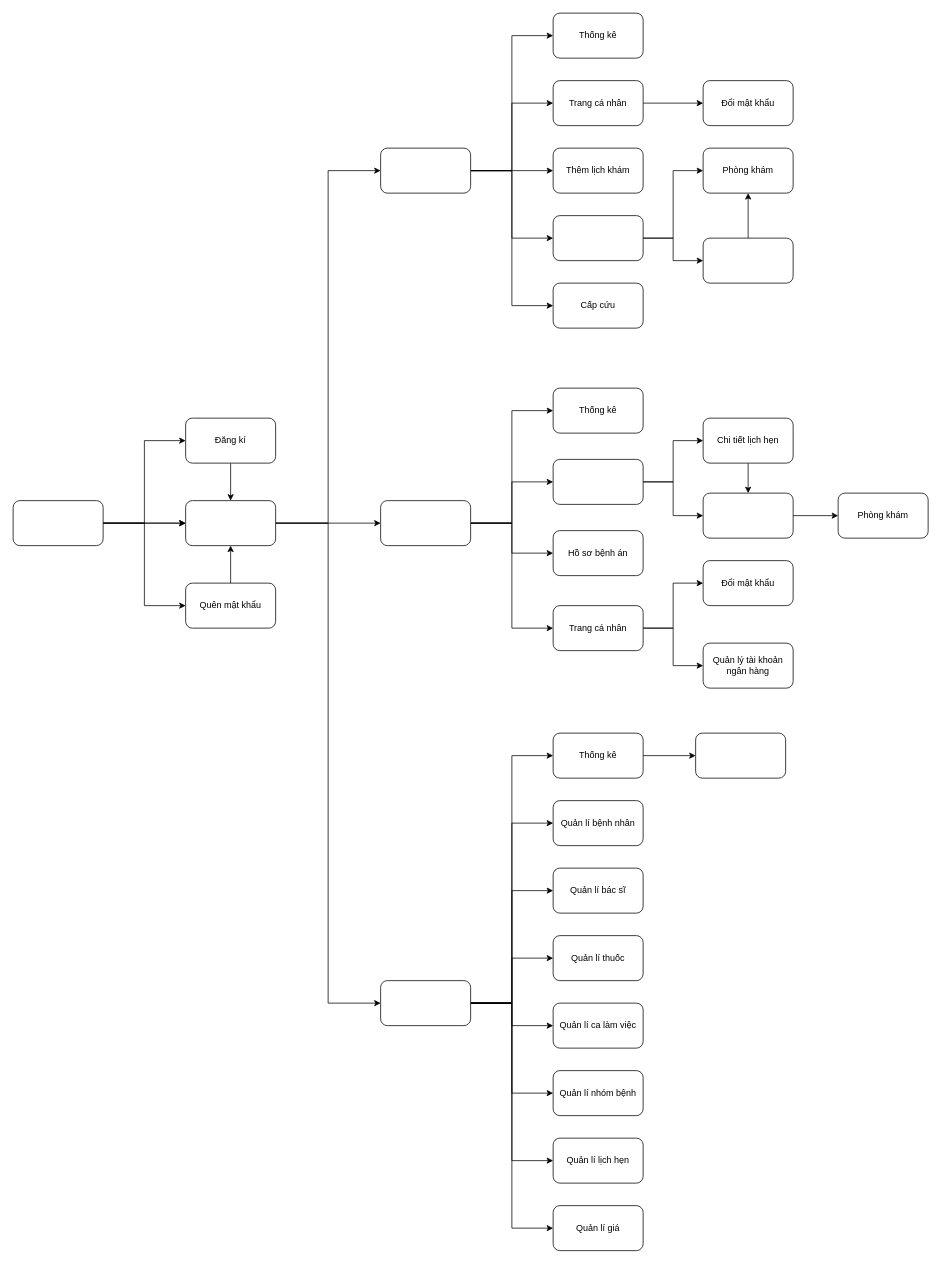
This 941x1264 diagram has some shape labels left out. Each missing label, with the box of its shape:
Admin: (380, 980, 471, 1026)
Bác sĩ: (380, 147, 471, 193)
Bệnh nhân: (380, 500, 471, 546)
Chi tiết ca khám: (702, 237, 793, 283)
Doanh thu bác sĩ: (695, 732, 786, 778)
Lịch hẹn: (552, 459, 643, 504)
Phòng chờ: (702, 492, 793, 538)
Trang chủ: (12, 500, 103, 546)
Xem lịch khám: (552, 215, 643, 261)
Đăng nhập: (185, 500, 276, 546)
